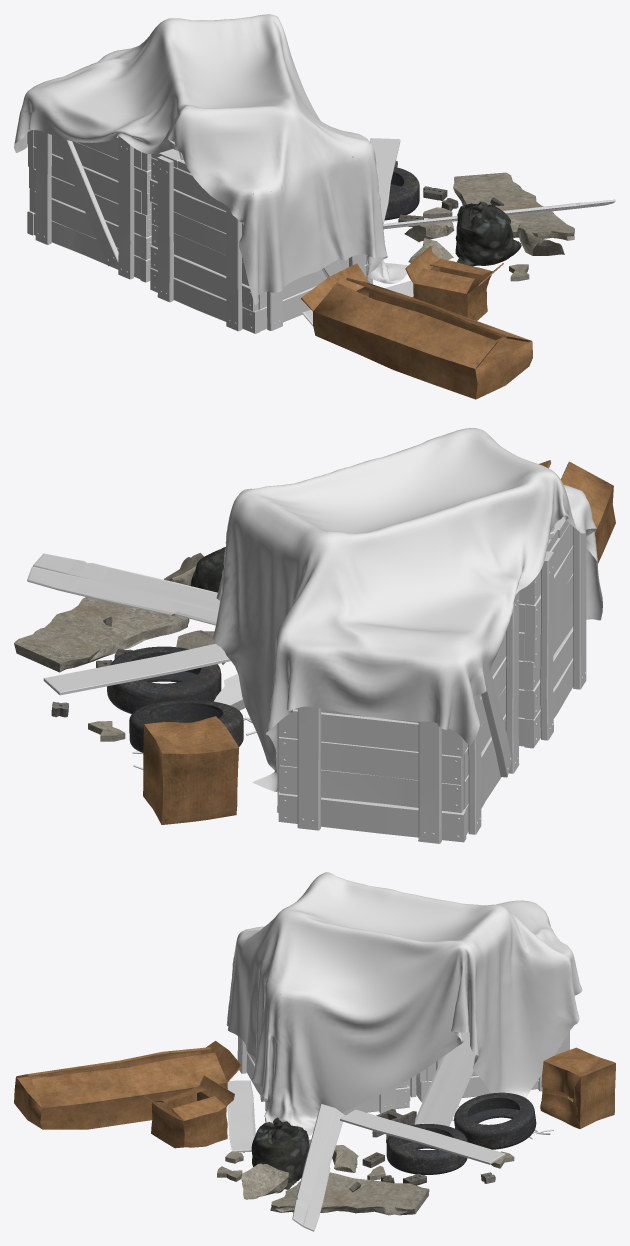
File: TrashPileC.fbx
3 views of the same model, one above another, from view 1: azimuth 30°, elevation 25°; view 2: azimuth 150°, elevation 25°; view 3: azimuth 270°, elevation 25° (orthographic). The views are drawn at different scales.
Parts seen in each view (by area): view 1: TrashPileC; view 2: TrashPileC; view 3: TrashPileC.
Boxes of the visible parts, box(x1,y1,x2,y2) form: TrashPileC: box(14, 14, 615, 399); TrashPileC: box(14, 428, 615, 843); TrashPileC: box(14, 872, 615, 1231).
Bounding box in the file's own units: 2.31 × 0.9218 × 2.79.
